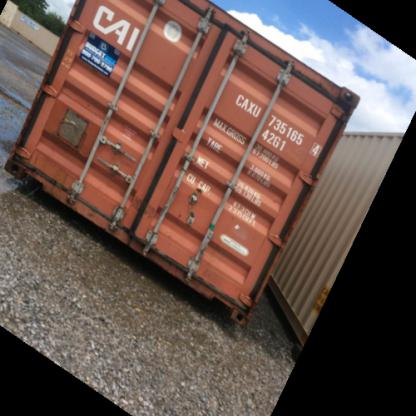Damage: (11, 141, 72, 202), (123, 189, 153, 219)
